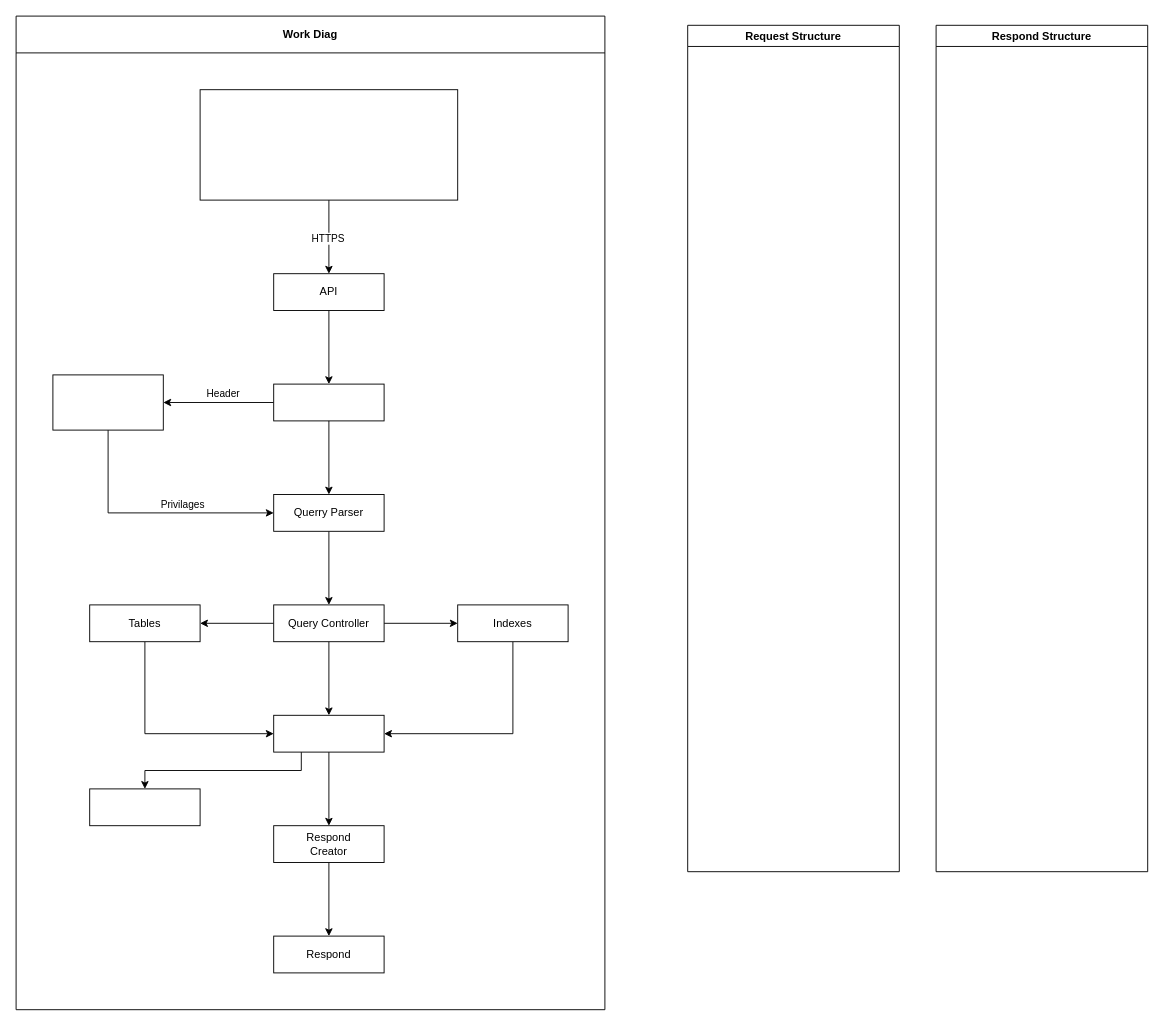
Some shapes in this 1164 by 1026 pixel diagram are drawn without their labels. The shapes that lost their labels are listed below. From the top down, each one's centre as x and y in pixels, then its label:
At [328,144]: "AppRunner".
At [107,402]: "Verificator".
At [328,402]: "/ Querry".
At [328,733]: "Data Controller".
At [144,807]: "Data B+ Tree".
